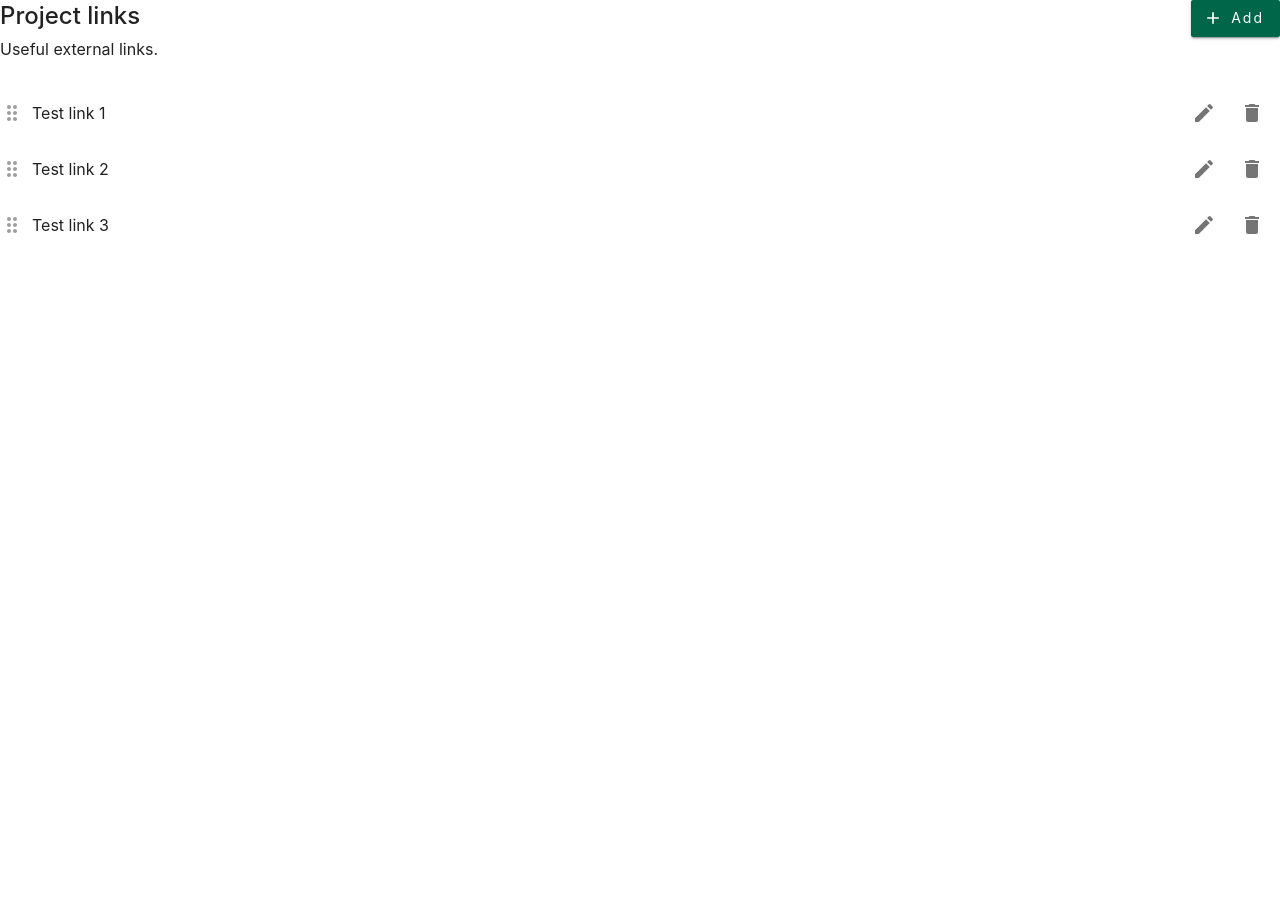
Test: can edit link
Click the 1st button named "edit" at (1204, 112), box [1184, 92, 1224, 132]
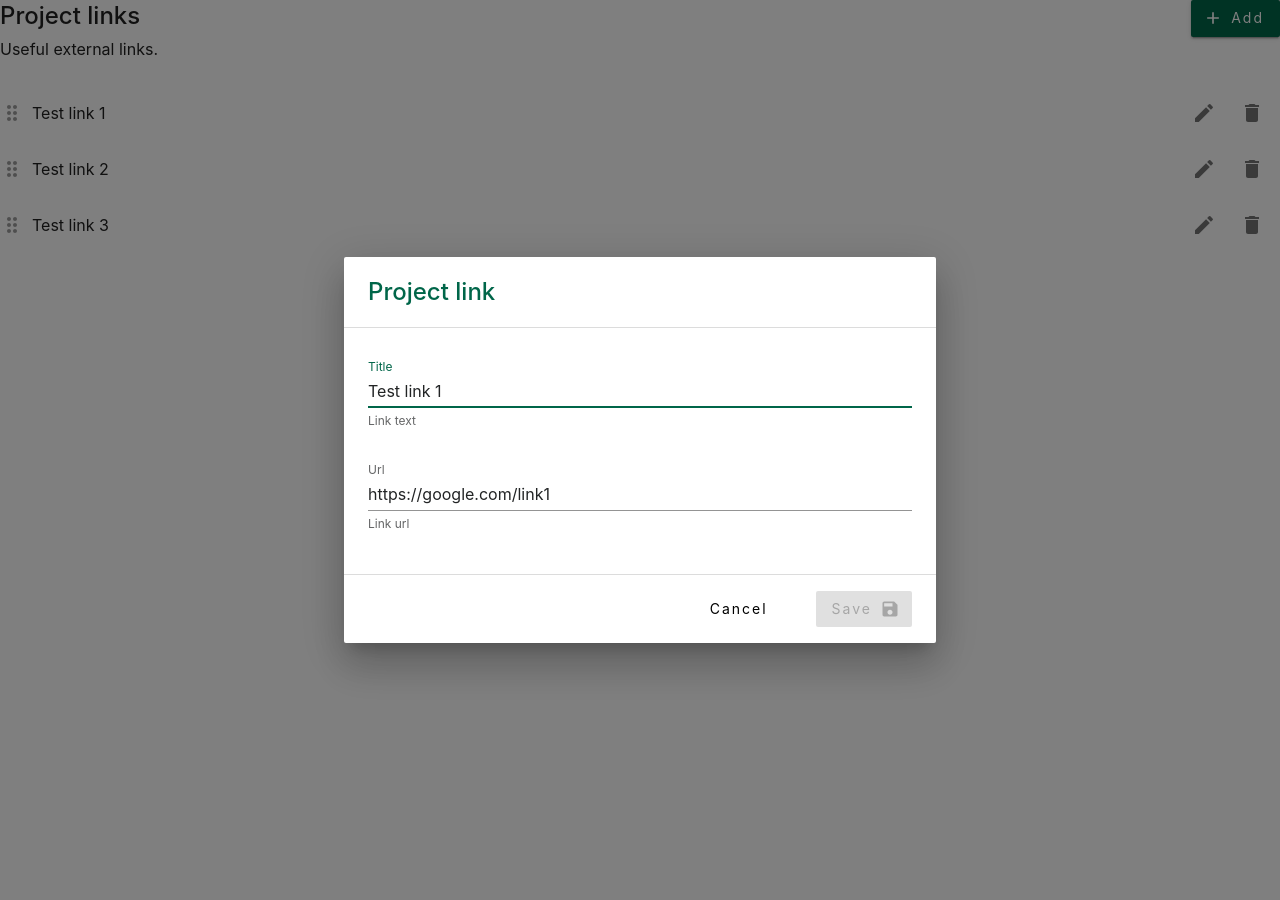
Replace the text in the field labelled "Title" with "Updated test link title" at (640, 392), box [368, 376, 912, 408]
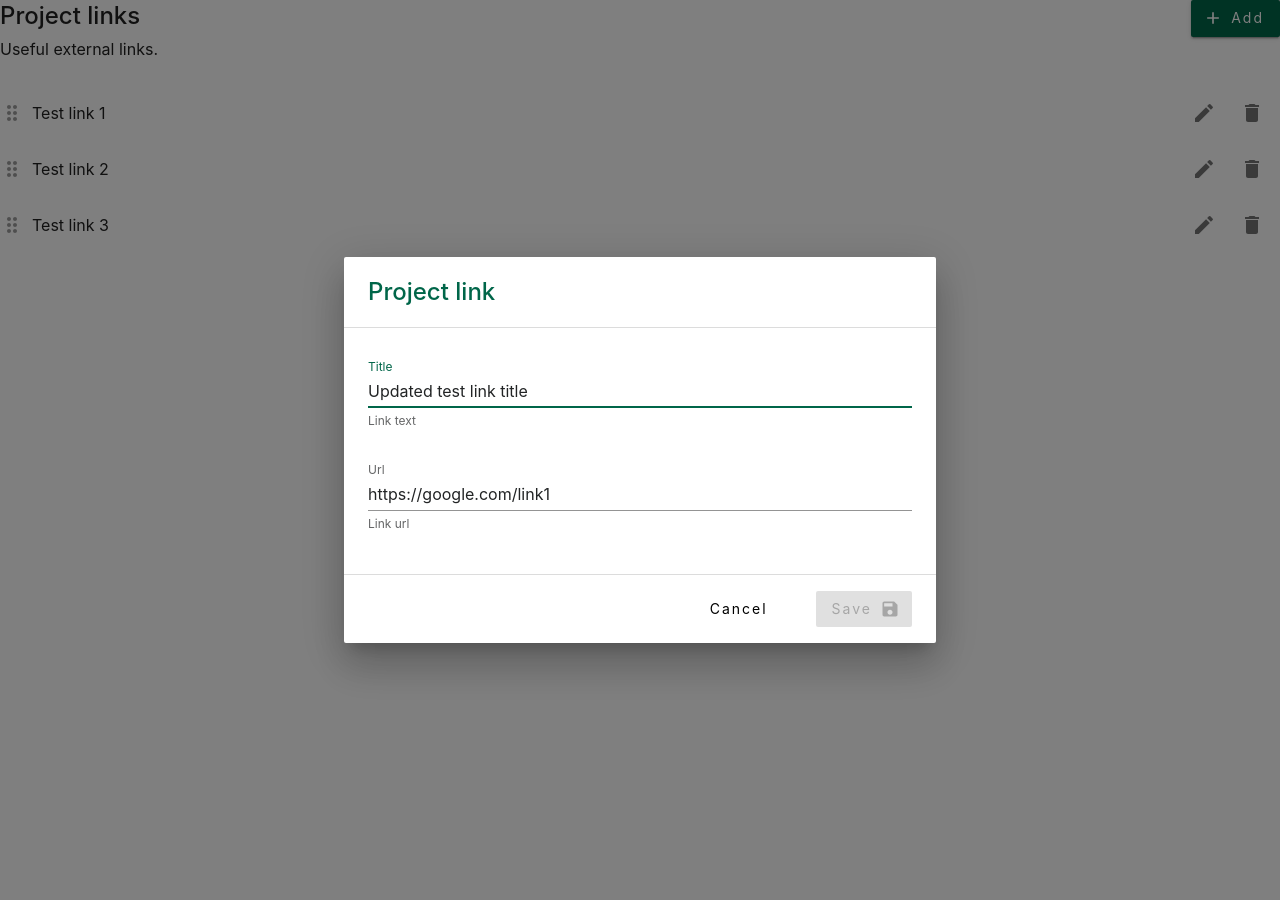
Replace the text in the field labelled "Url" with "https://google.com/updated-test-link" at (640, 495), box [368, 479, 912, 511]
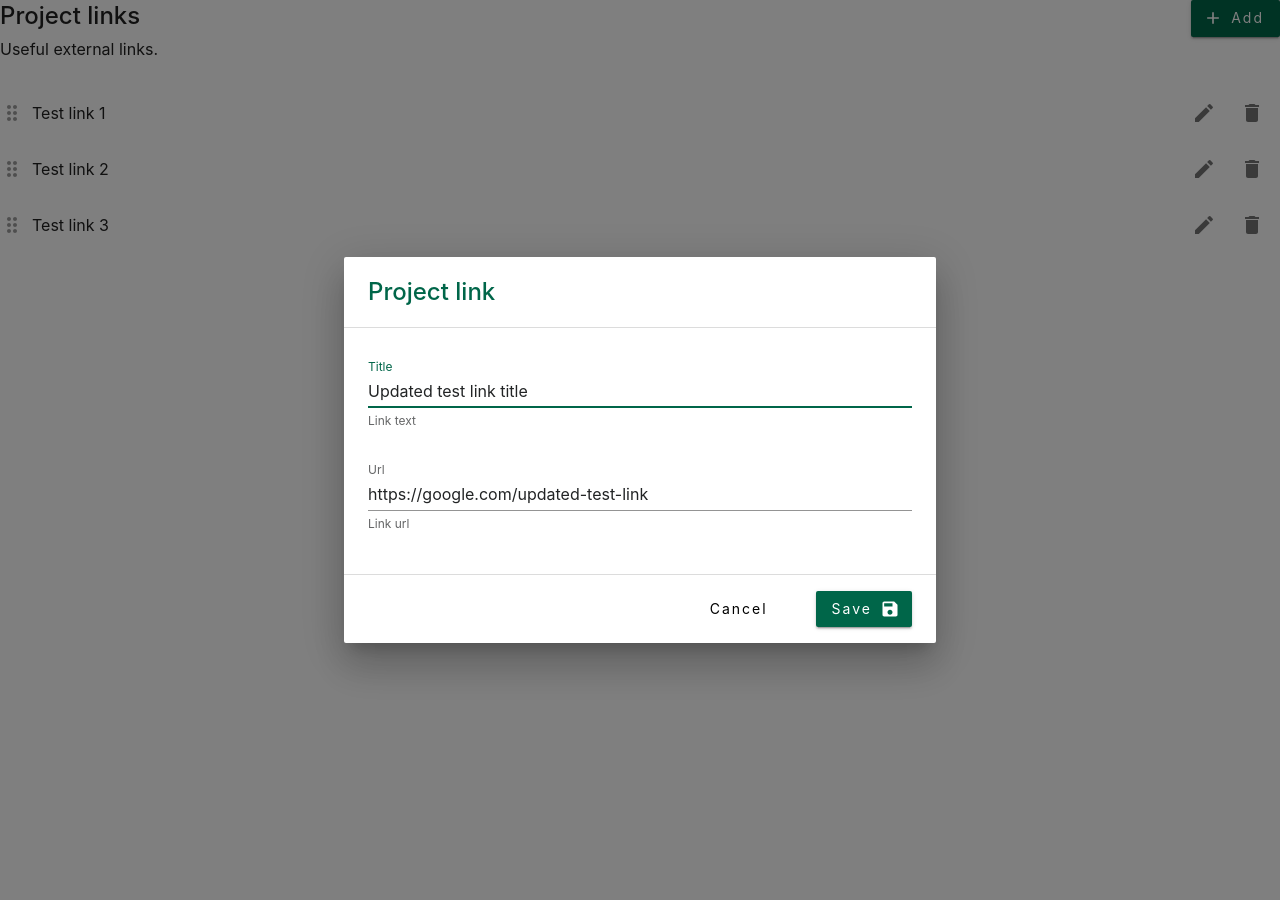
Expected: the button "Save" is enabled
Click the button "Save" at (864, 609), box [816, 591, 912, 627]
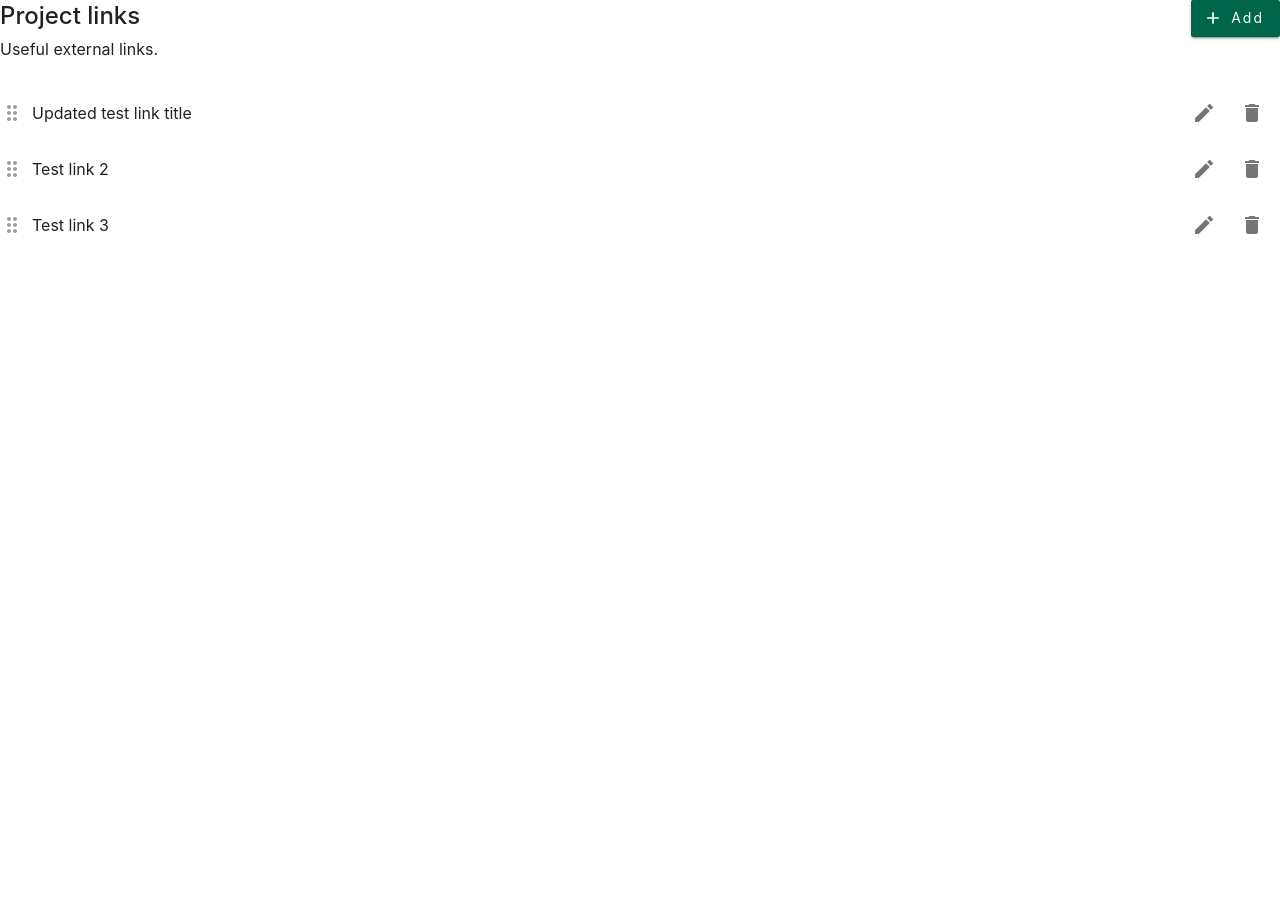
Expected: the dialog is gone
Expected: the button with test id "project-link-item" reads "Updated test link title", [0, 84, 1279, 140]
